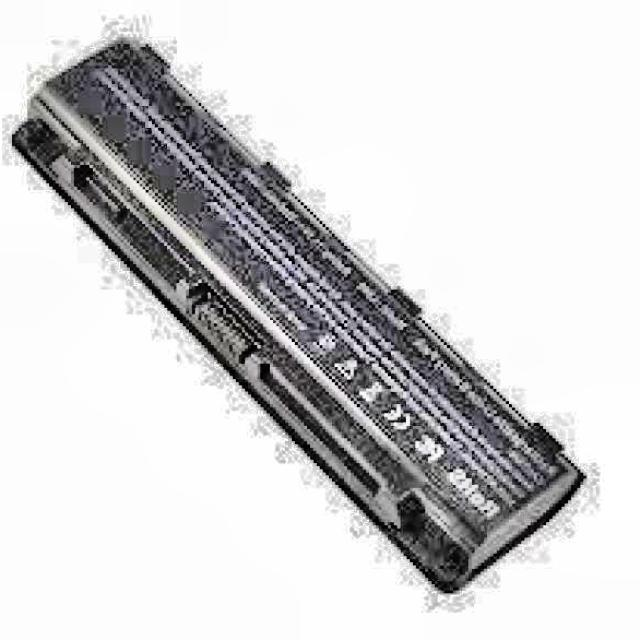Non-Valuable Waste - Batteries: (15, 38, 583, 587)
